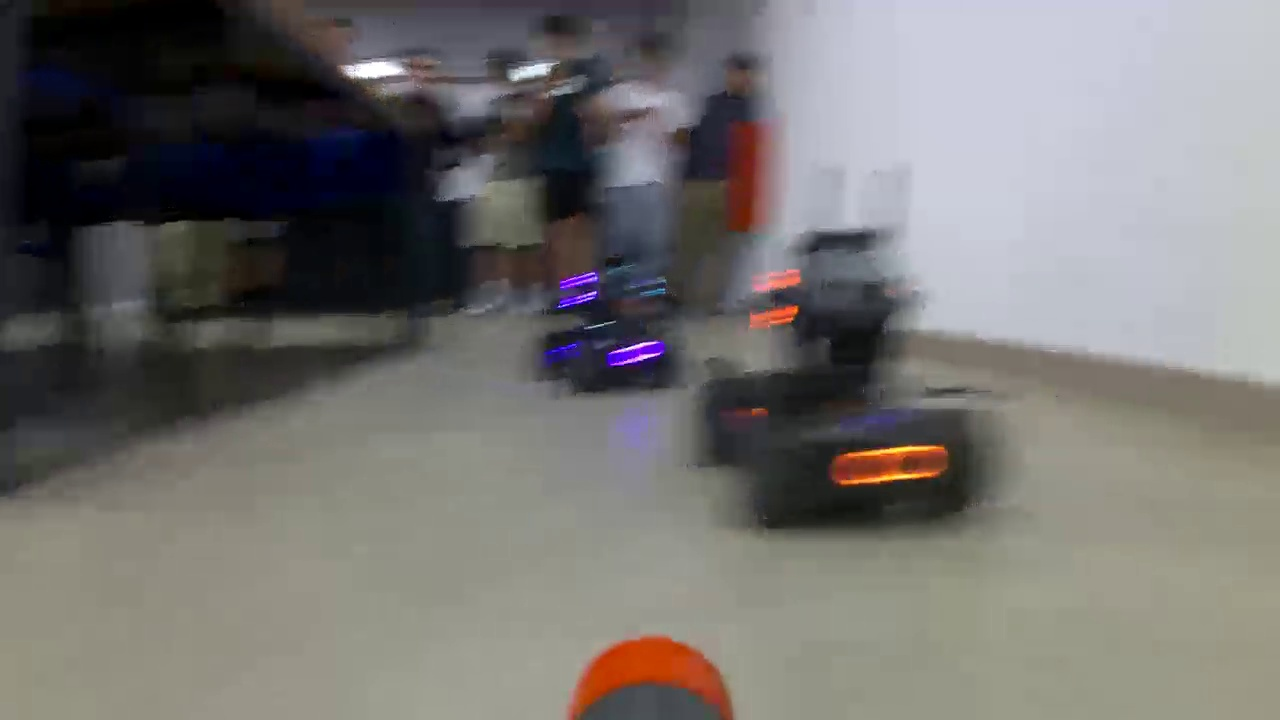robot: (715, 237, 1003, 550), (548, 252, 703, 402)
